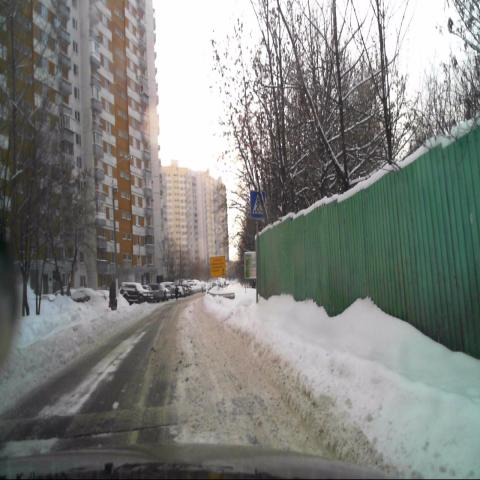5_19_1: (250, 189, 267, 221)
